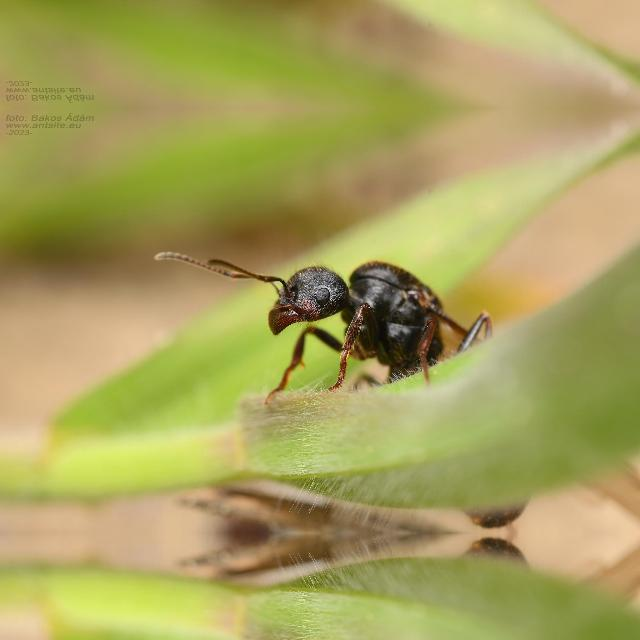Messor: (222, 225, 538, 530), (221, 535, 538, 640)
